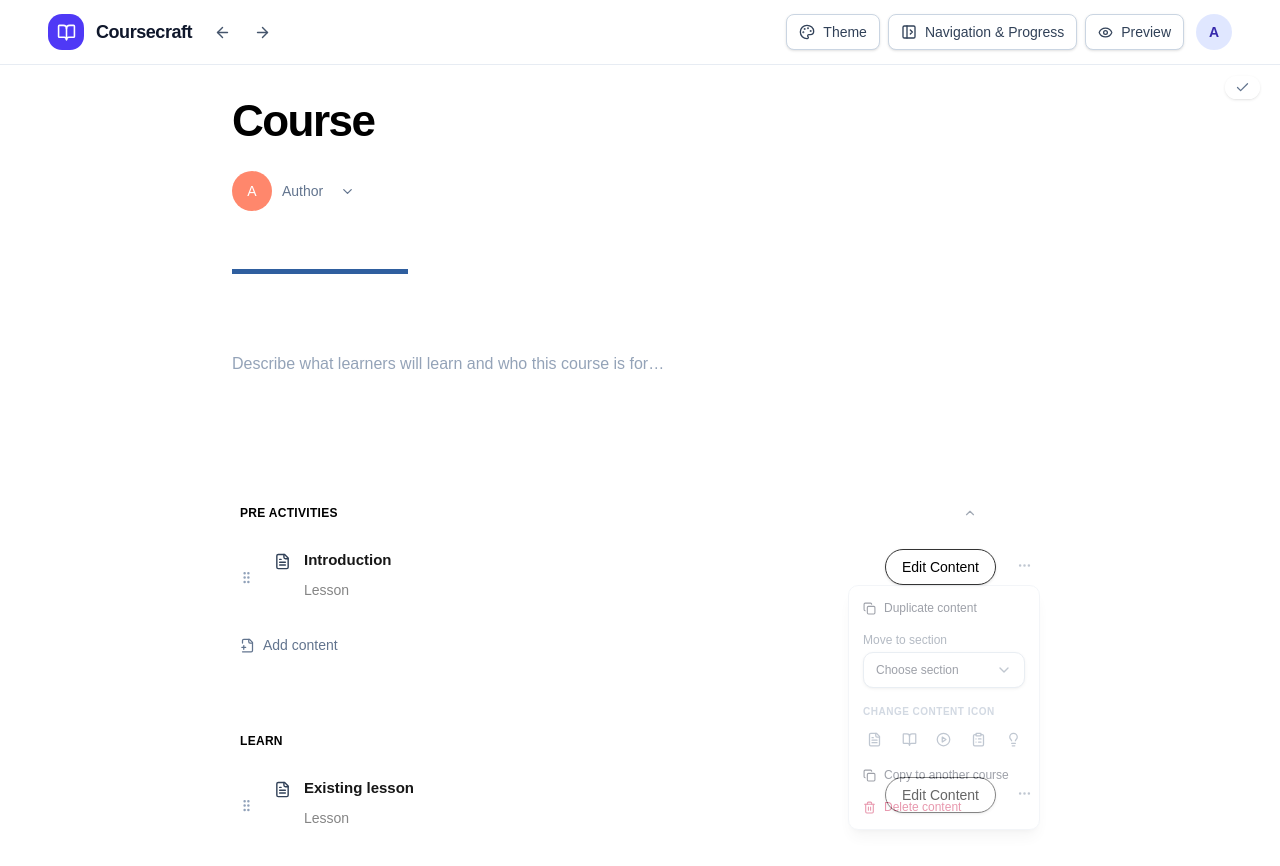
Scenario: course outline editing › duplicates and saves content without routing away from the course outline
This screenshot has width=1280, height=866.
Step 1. Click the button "Duplicate content" → (944, 608), box left=855, top=592, right=1033, bottom=624
Wait 1000 ms
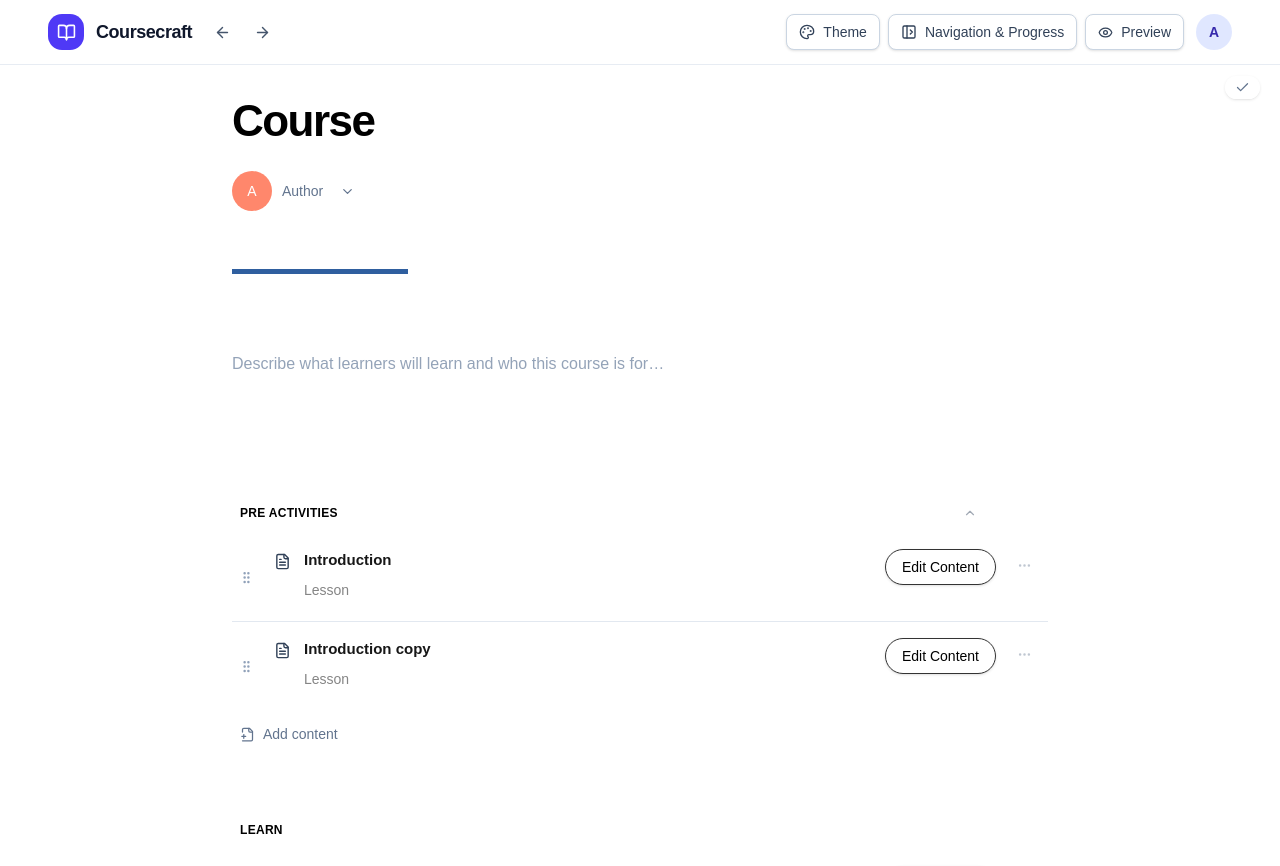
Expected: the text box named "Course title" is shown, left=232, top=97, right=1048, bottom=145
Now the heading named "Content actions for Introduction copy" is shown, box left=1016, top=647, right=1032, bottom=662
